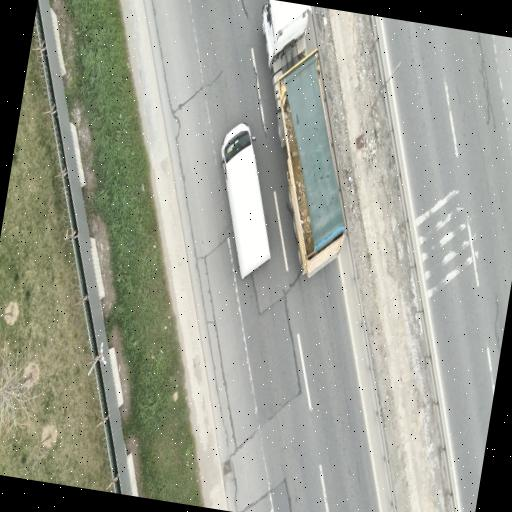car: (221, 124, 269, 278)
truck: (261, 0, 344, 276)
